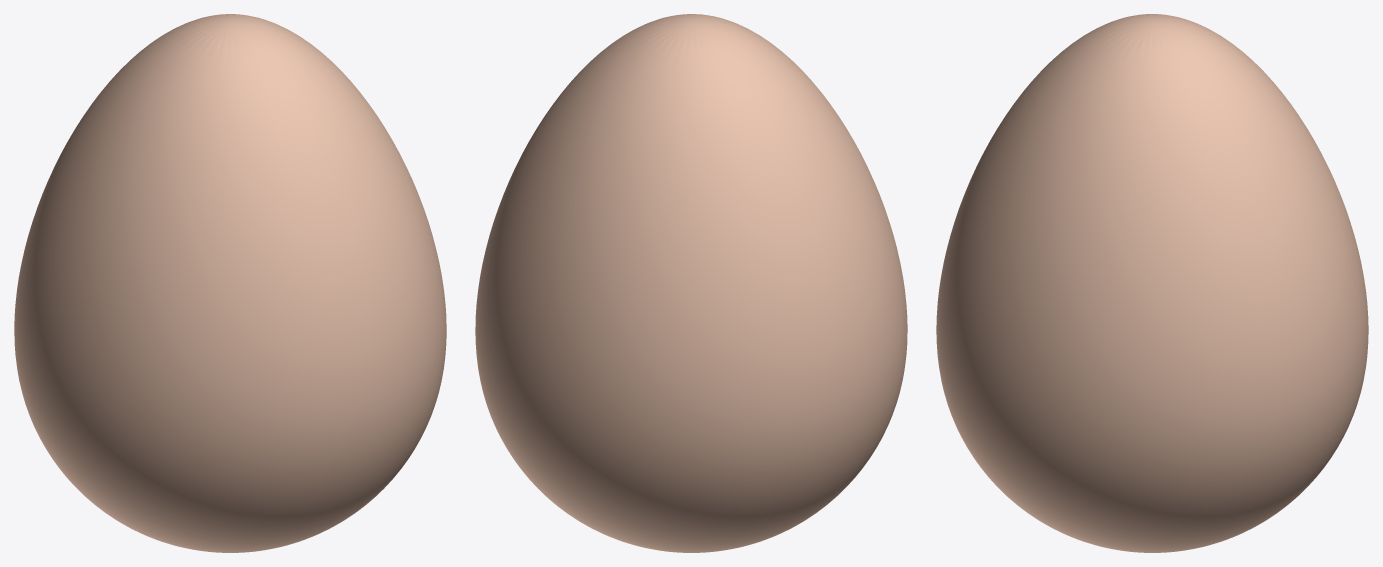
The model's file is egg.fbx.
3 renders of one model, left to right at view 1: azimuth 30°, elevation 25°; view 2: azimuth 150°, elevation 25°; view 3: azimuth 270°, elevation 25°, orthographic.
Parts seen in each view (by area): view 1: Sphere.001; view 2: Sphere.001; view 3: Sphere.001.
Boxes of the visible parts, bbox=[...] form: Sphere.001: bbox=[14, 14, 446, 552]; Sphere.001: bbox=[475, 14, 907, 552]; Sphere.001: bbox=[936, 14, 1368, 552].
Size of the model in its own units: 143 by 186 by 143.
